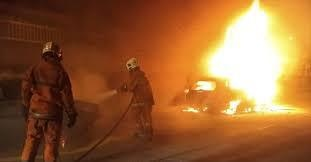fire: (196, 3, 288, 115)
